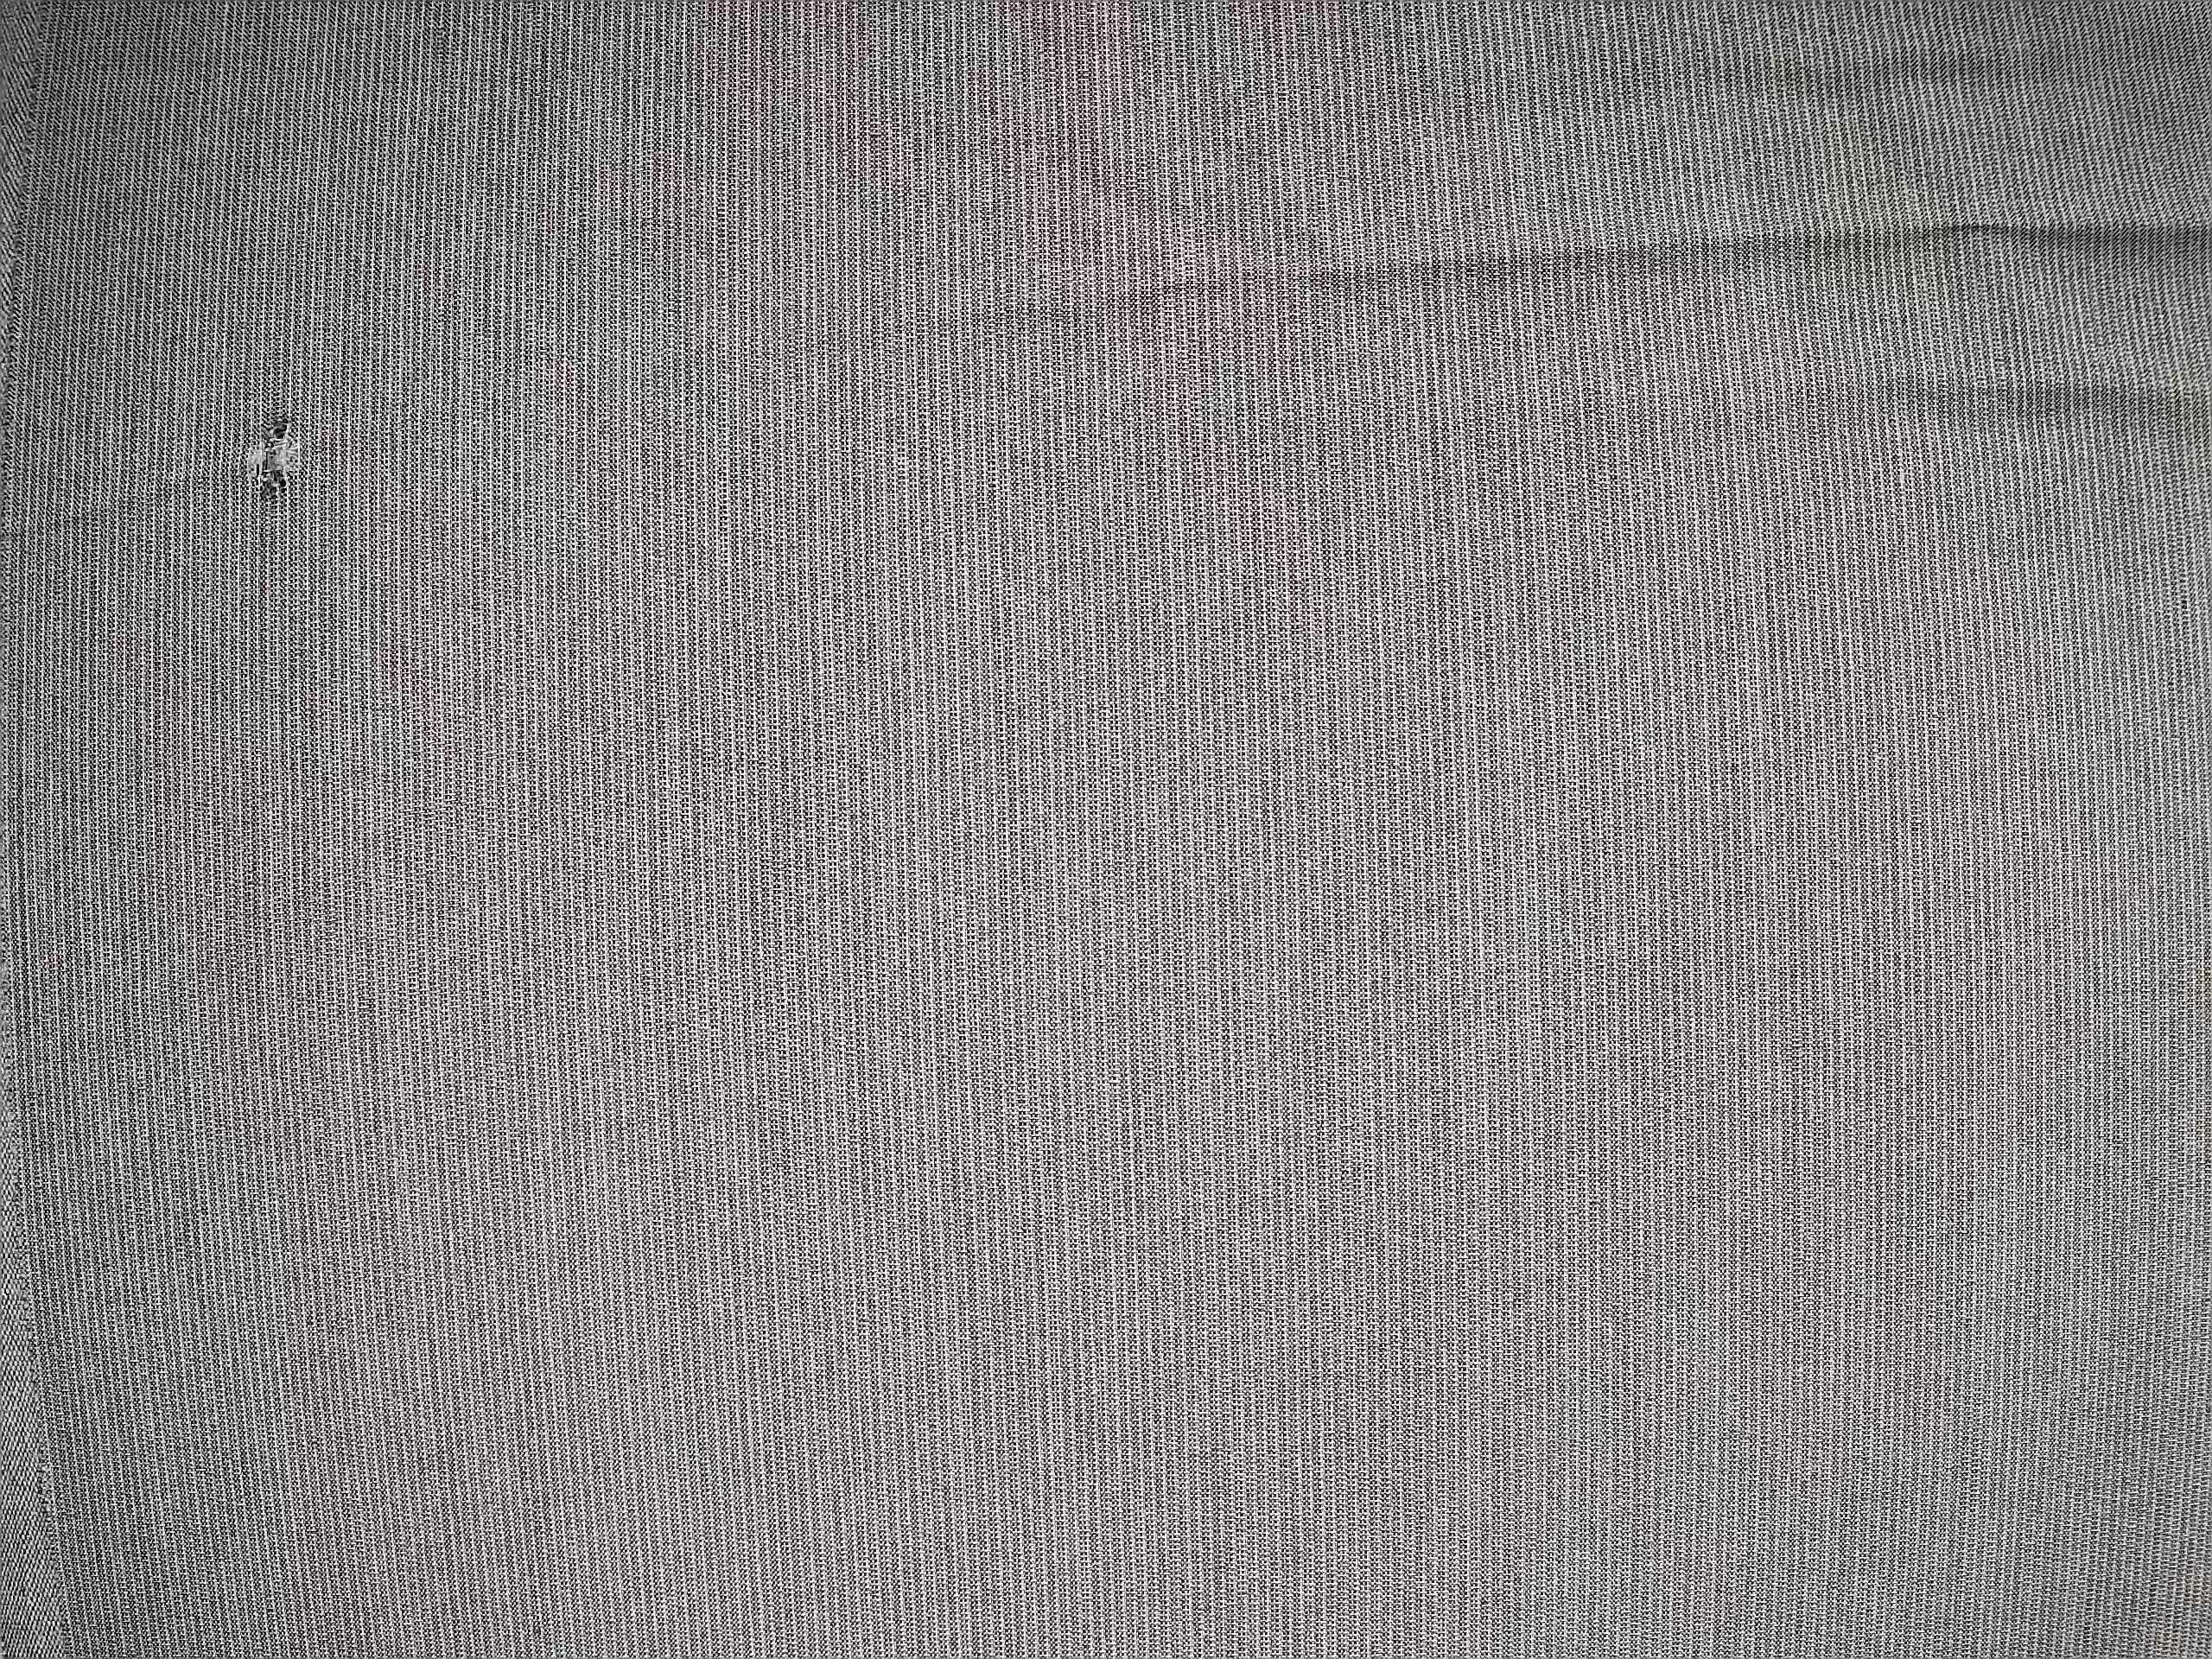rubbing-hole: (233, 403, 324, 525)
